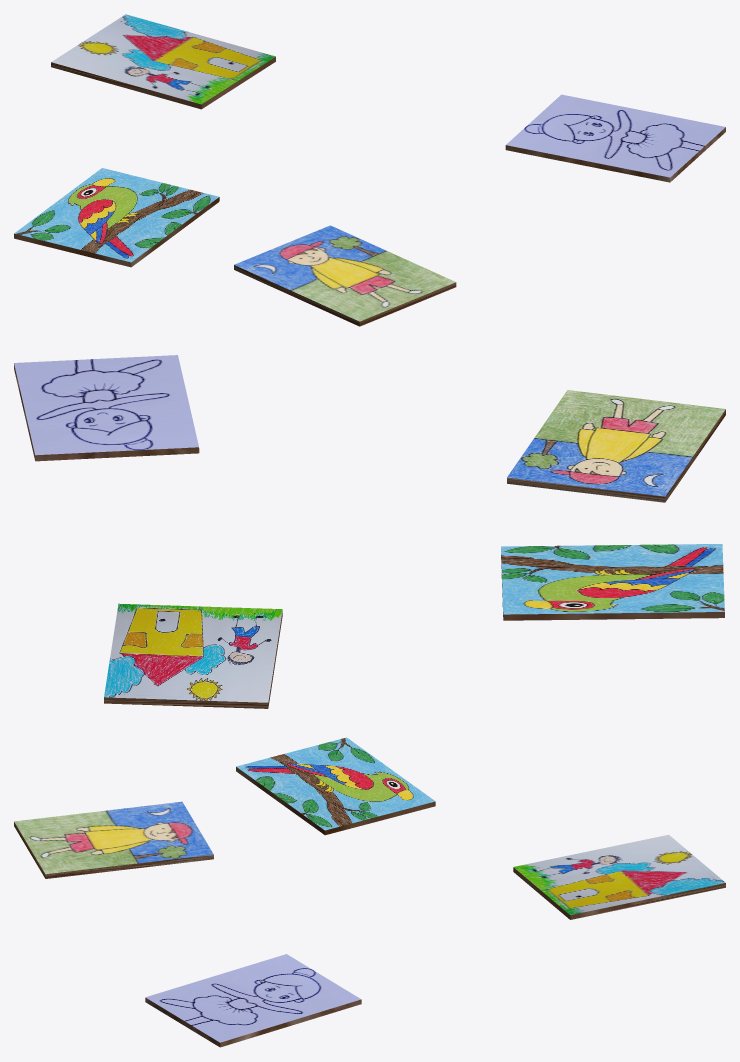
Rendered from Drawing_Book_Collider.fbx.
The picture shows the model from 3 angles, top to bottom: view 1: azimuth 30°, elevation 25°; view 2: azimuth 150°, elevation 25°; view 3: azimuth 270°, elevation 25°; orthographic projection. The views are drawn at different scales.
Visible parts, largest first — view 1: Drawing_Book_Collider; view 2: Drawing_Book_Collider; view 3: Drawing_Book_Collider.
Part boxes in pixels (x1,y1,x2,y2): Drawing_Book_Collider: (14, 14, 725, 326); Drawing_Book_Collider: (14, 355, 725, 708); Drawing_Book_Collider: (14, 737, 725, 1047).
Size of the model in its own units: 81.57 by 1.01 by 81.08.
